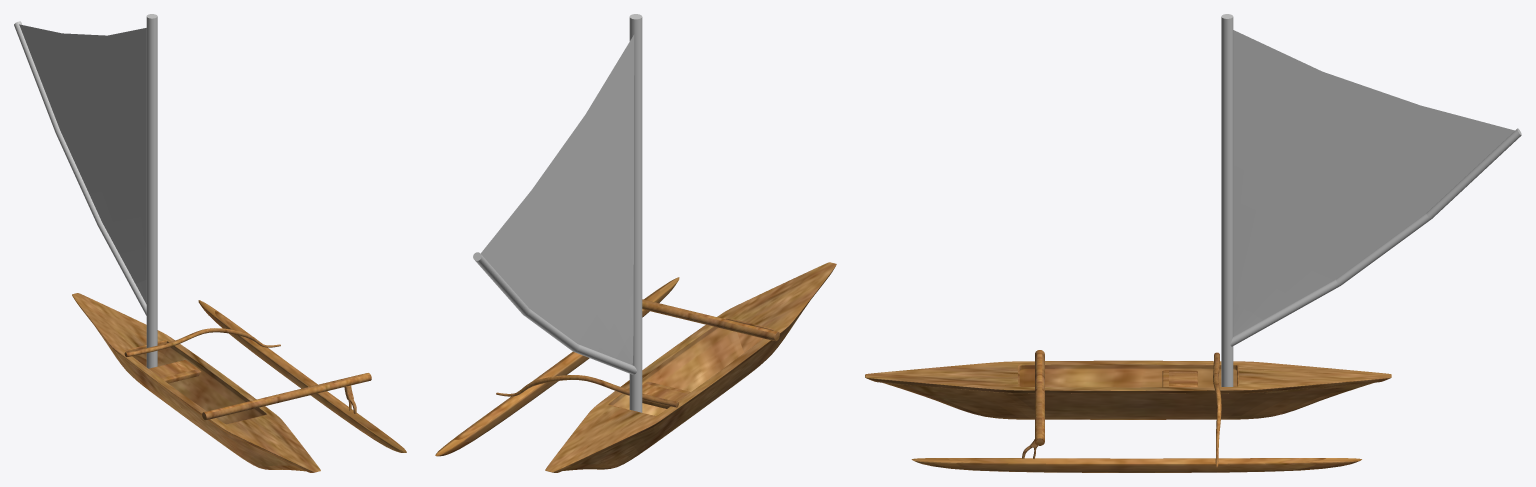
File: pirogue03.fbx
3 views of the same model, side by side, from view 1: azimuth 30°, elevation 25°; view 2: azimuth 150°, elevation 25°; view 3: azimuth 270°, elevation 25° (orthographic). The views are drawn at different scales.
Parts seen in each view (by area): view 1: Plane, Cube.003; view 2: Plane, Cube.003; view 3: Plane, Cube.003.
Part boxes in pixels (x1,y1,x2,y2): Plane: (14,14,157,368); Cube.003: (72,293,406,472); Plane: (473,14,642,412); Cube.003: (435,262,836,472); Plane: (1221,14,1521,386); Cube.003: (865,350,1391,472).
Bounding box in the file's own units: 886 × 1902 × 2814.
